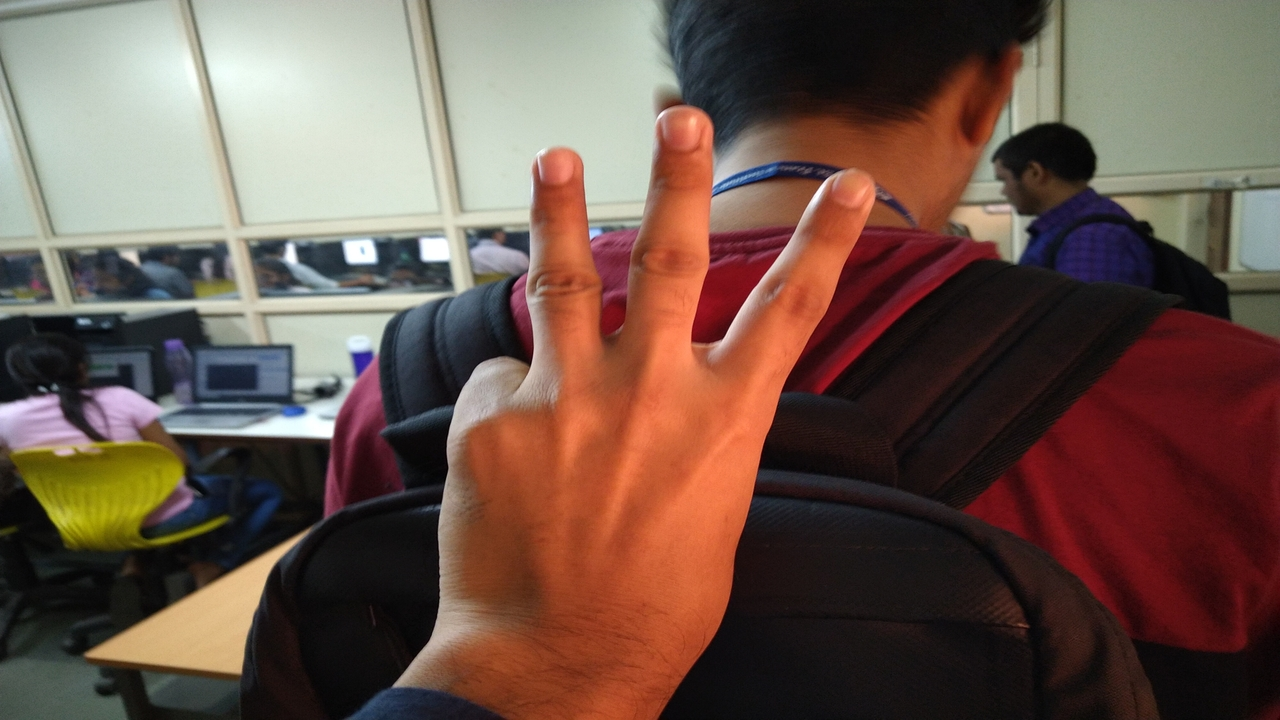fingertip: (648, 92, 714, 162), (816, 160, 886, 224), (528, 140, 590, 196)
